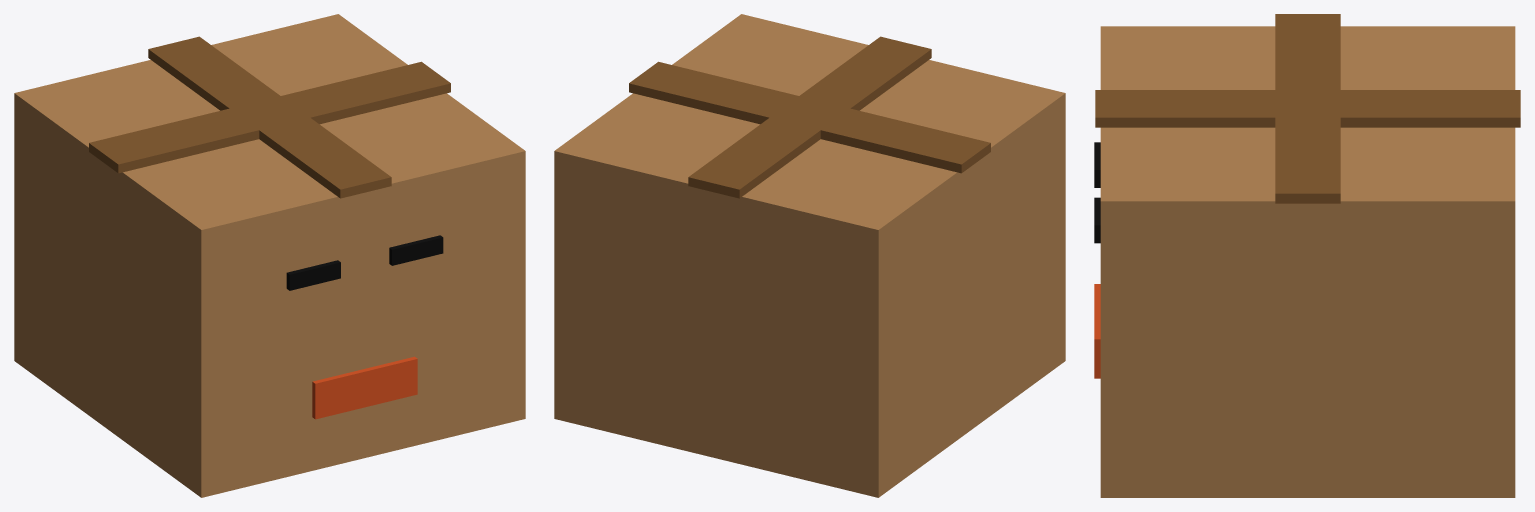
The model's file is gun-cardboard_box.glb.
The picture shows the model from 3 angles, left to right: view 1: azimuth 30°, elevation 25°; view 2: azimuth 150°, elevation 25°; view 3: azimuth 270°, elevation 25°; orthographic projection. The views are drawn at different scales.
Parts seen in each view (by area): view 1: cardboard_box; view 2: cardboard_box; view 3: cardboard_box.
Boxes of the visible parts, x1,y1,x2,y2 form: cardboard_box: (14, 14, 525, 497); cardboard_box: (554, 14, 1065, 497); cardboard_box: (1094, 14, 1520, 497).
Bounding box in the file's own units: 0.39 × 0.31 × 0.391.
